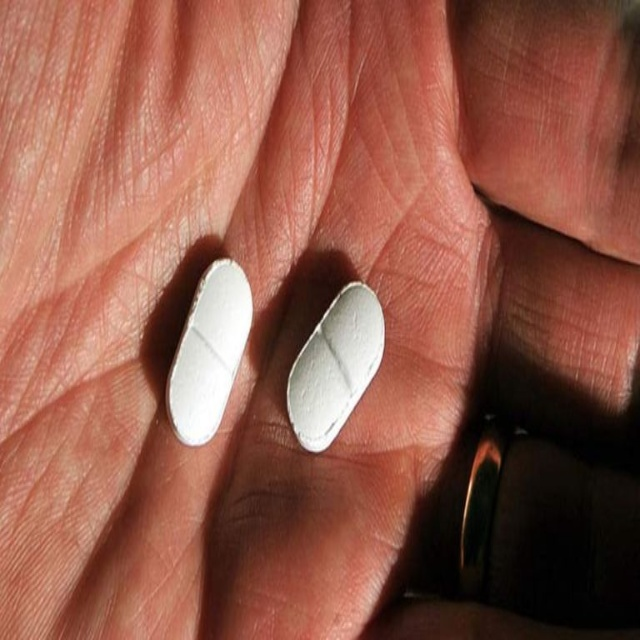pill: (342, 190, 463, 306), (199, 173, 304, 302)
